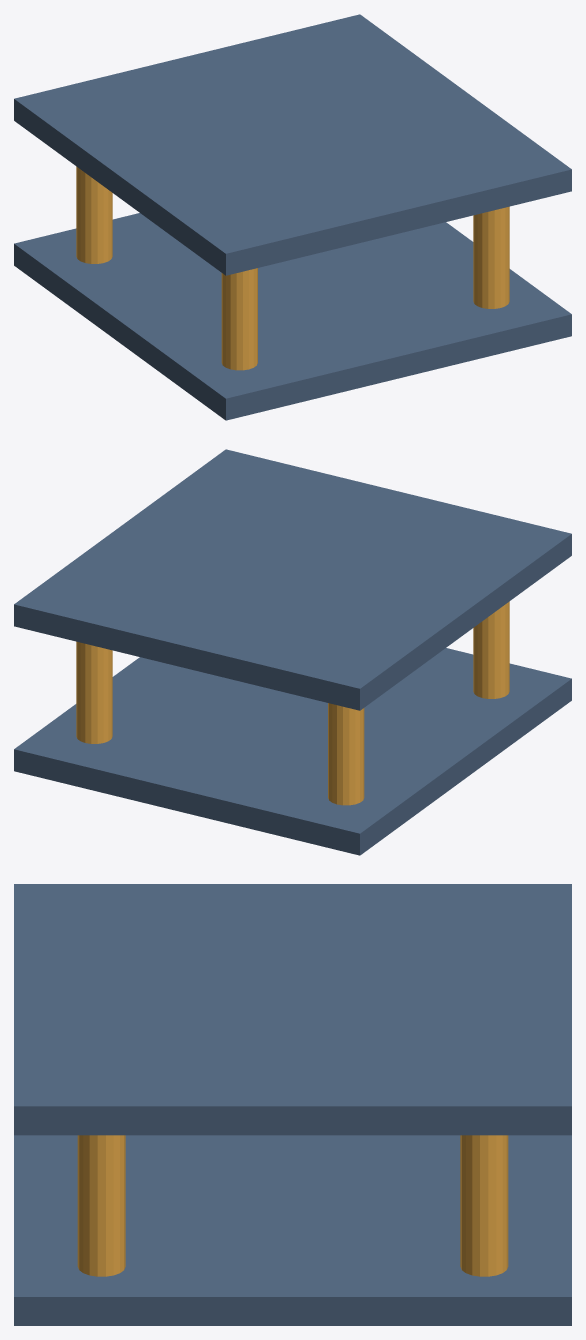
File: 46_L91_ClockVibrationIsolationPlatform.fbx
3 views of the same model, one above another, from view 1: azimuth 30°, elevation 25°; view 2: azimuth 150°, elevation 25°; view 3: azimuth 270°, elevation 25° (orthographic). The views are drawn at different scales.
Parts seen in each view (by area): view 1: L91_ClockVibrationIsolationPlatform, L91_ClockVibrationIsolationPlatform_Part_0001; view 2: L91_ClockVibrationIsolationPlatform, L91_ClockVibrationIsolationPlatform_Part_0001; view 3: L91_ClockVibrationIsolationPlatform, L91_ClockVibrationIsolationPlatform_Part_0001.
Part boxes in pixels (bbox=[...]): L91_ClockVibrationIsolationPlatform: bbox=[14, 14, 571, 420]; L91_ClockVibrationIsolationPlatform_Part_0001: bbox=[76, 166, 509, 370]; L91_ClockVibrationIsolationPlatform: bbox=[14, 449, 571, 855]; L91_ClockVibrationIsolationPlatform_Part_0001: bbox=[76, 601, 509, 805]; L91_ClockVibrationIsolationPlatform: bbox=[14, 884, 571, 1325]; L91_ClockVibrationIsolationPlatform_Part_0001: bbox=[77, 1135, 508, 1276].
Size of the model in its own units: 165 by 76 by 175.
